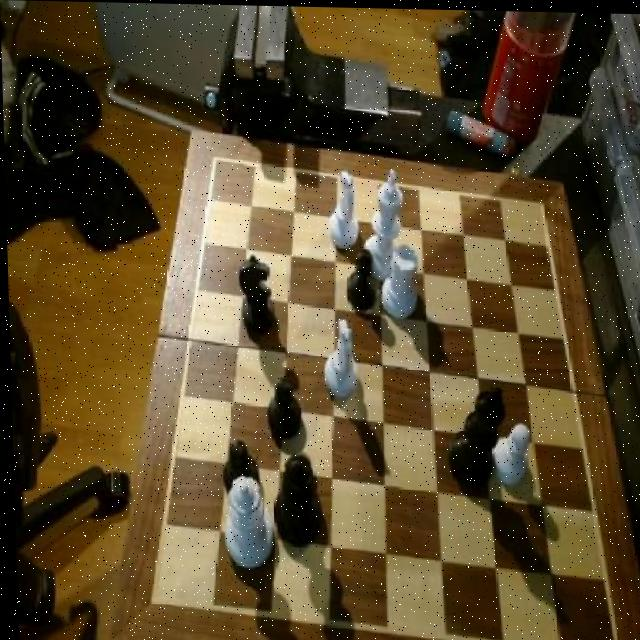black-bishop: (441, 379, 508, 493)
black-king: (233, 251, 277, 339)
black-knight: (261, 368, 300, 443), (215, 436, 255, 500), (342, 246, 378, 314)
black-pawn: (267, 451, 319, 550)
white-bishop: (362, 168, 407, 279)
white-king: (317, 314, 358, 399), (325, 168, 360, 251)
white-knight: (486, 421, 531, 489)
white-pawn: (214, 474, 270, 573)
white-queen: (375, 240, 420, 319)
